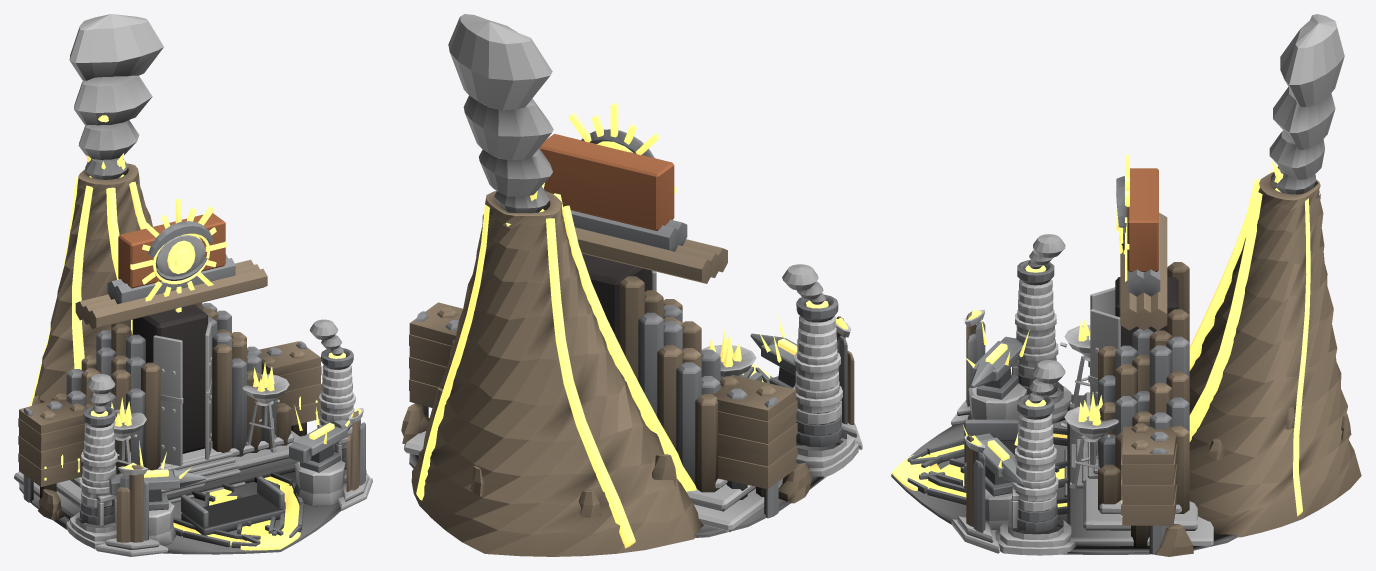
Rendered from gate-of-etna-l3.glb.
The picture shows the model from 3 angles, left to right: view 1: azimuth 30°, elevation 25°; view 2: azimuth 150°, elevation 25°; view 3: azimuth 270°, elevation 25°; orthographic projection. The views are drawn at different scales.
Parts seen in each view (by area): view 1: gate-of-etna-l3; view 2: gate-of-etna-l3; view 3: gate-of-etna-l3.
Boxes of the visible parts, x1,y1,x2,y2 form: gate-of-etna-l3: [14, 14, 372, 556]; gate-of-etna-l3: [401, 14, 862, 556]; gate-of-etna-l3: [891, 14, 1361, 556].
Size of the model in its own units: 1.44 by 1.93 by 1.78.
